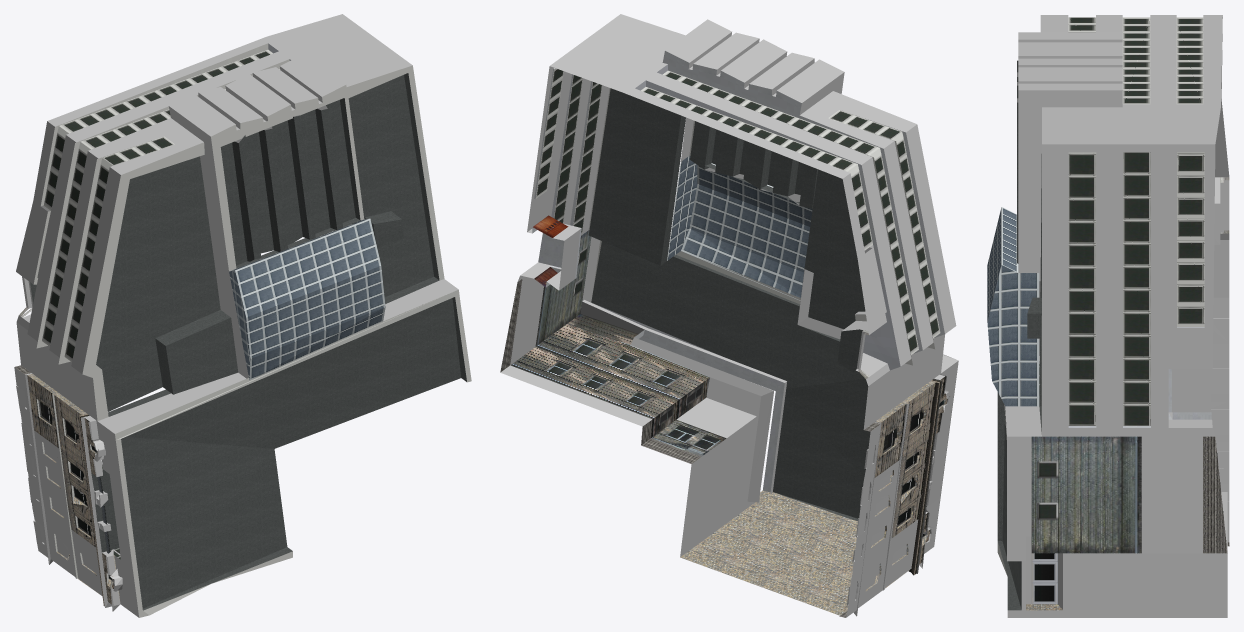
The model's file is Toompuiestee_24-origo.obj.
The picture shows the model from 3 angles, left to right: view 1: azimuth 30°, elevation 25°; view 2: azimuth 150°, elevation 25°; view 3: azimuth 270°, elevation 25°; orthographic projection. The views are drawn at different scales.
Visible parts, largest first — view 1: Toompuiestee_24; view 2: Toompuiestee_24; view 3: Toompuiestee_24.
Boxes of the visible parts, box(x1,y1,x2,y2) form: Toompuiestee_24: box(14, 14, 471, 617); Toompuiestee_24: box(500, 14, 958, 617); Toompuiestee_24: box(987, 15, 1229, 617).
Bounding box in the file's own units: 31.19 × 38 × 14.05.
